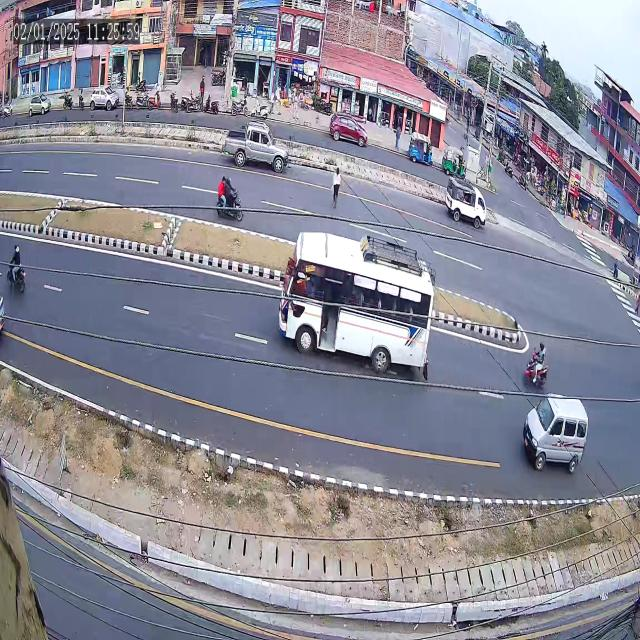bus: (270, 218, 446, 422)
motorcycle: (204, 168, 248, 228), (4, 237, 34, 300), (522, 329, 550, 387)
van: (513, 390, 598, 480)
